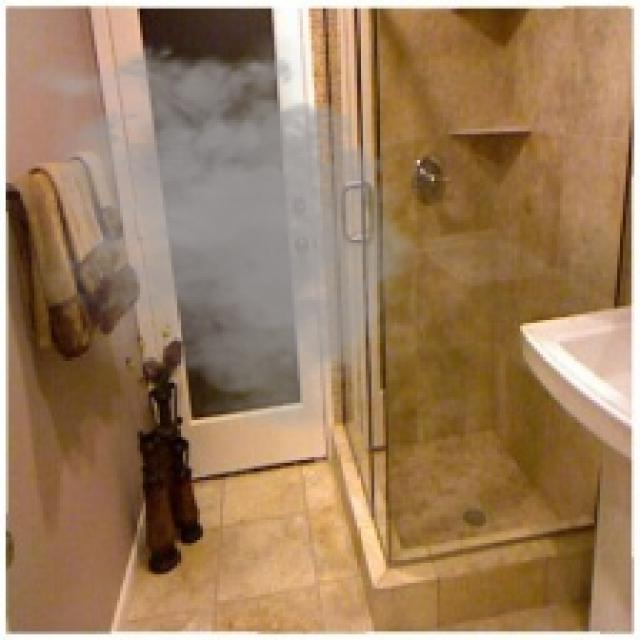smoke: (14, 26, 434, 446)
